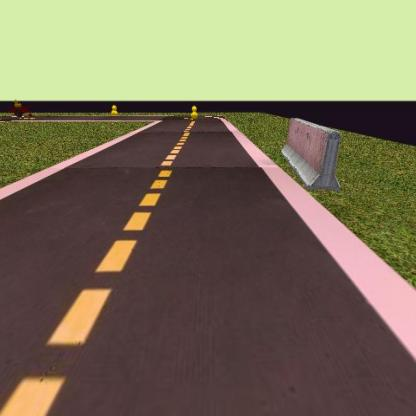Barrier: (280, 115, 341, 192)
Duckie: (14, 97, 24, 109), (110, 103, 119, 116), (192, 105, 198, 120)
DuckieBot: (7, 102, 35, 121)
